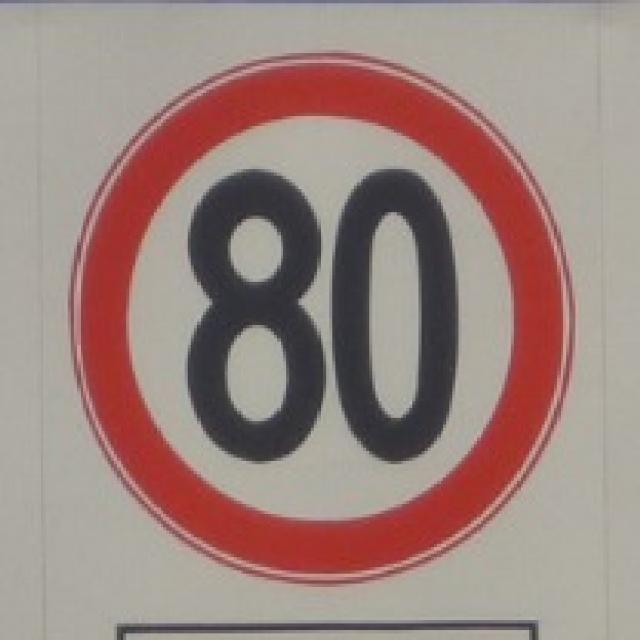Speed Limit -80-: (183, 163, 462, 466)
